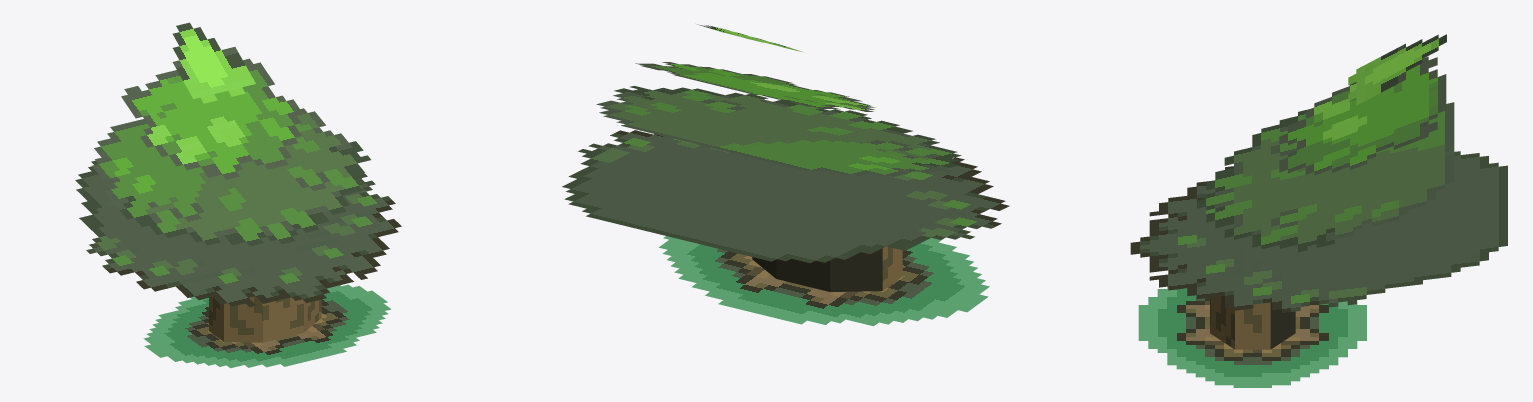
Rendered from tree.gltf.
3 views of the same model, side by side, from view 1: azimuth 30°, elevation 25°; view 2: azimuth 150°, elevation 25°; view 3: azimuth 270°, elevation 25° (orthographic). The views are drawn at different scales.
Parts seen in each view (by area): view 1: leaves-3, leaves-2, leaves-4, trunk, cylinder, leaves-5; view 2: leaves-2, leaves-3, trunk, cylinder, leaves-4; view 3: leaves-2, leaves-3, trunk, leaves-4, cylinder, leaves-5.
Part boxes in pixels (left/top/right/bottom): leaves-3: left=92, top=108, right=370, bottom=246; leaves-2: left=75, top=160, right=401, bottom=307; leaves-4: left=121, top=58, right=301, bottom=179; trunk: left=143, top=284, right=391, bottom=368; cylinder: left=209, top=296, right=321, bottom=342; leaves-5: left=172, top=22, right=255, bottom=103; leaves-2: left=562, top=130, right=1009, bottom=263; leaves-3: left=596, top=86, right=961, bottom=176; trunk: left=659, top=236, right=989, bottom=326; cylinder: left=752, top=246, right=902, bottom=291; leaves-4: left=635, top=62, right=875, bottom=111; leaves-2: left=1130, top=151, right=1507, bottom=312; leaves-3: left=1197, top=102, right=1454, bottom=252; trunk: left=1138, top=286, right=1366, bottom=387; leaves-4: left=1279, top=56, right=1446, bottom=175; cylinder: left=1210, top=296, right=1295, bottom=349; leaves-5: left=1348, top=34, right=1446, bottom=105.
Bounding box in the file's own units: 2.56 × 2.06 × 2.61.
6 materials, 6 textured.
